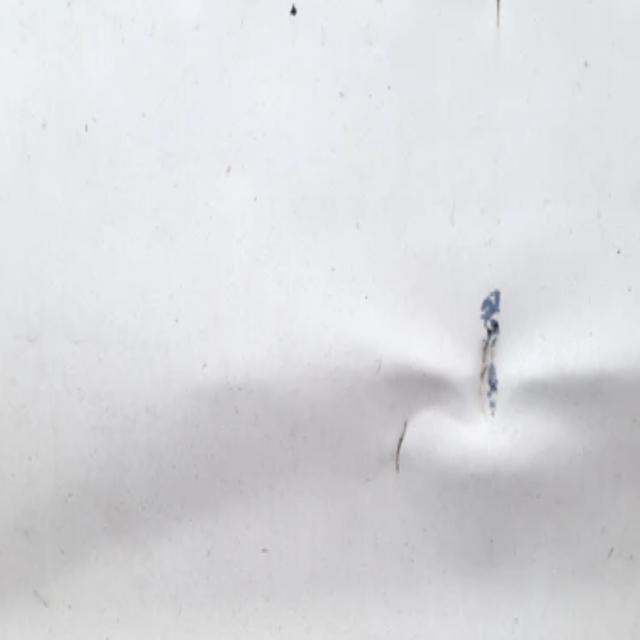dents: (359, 293, 625, 547)
